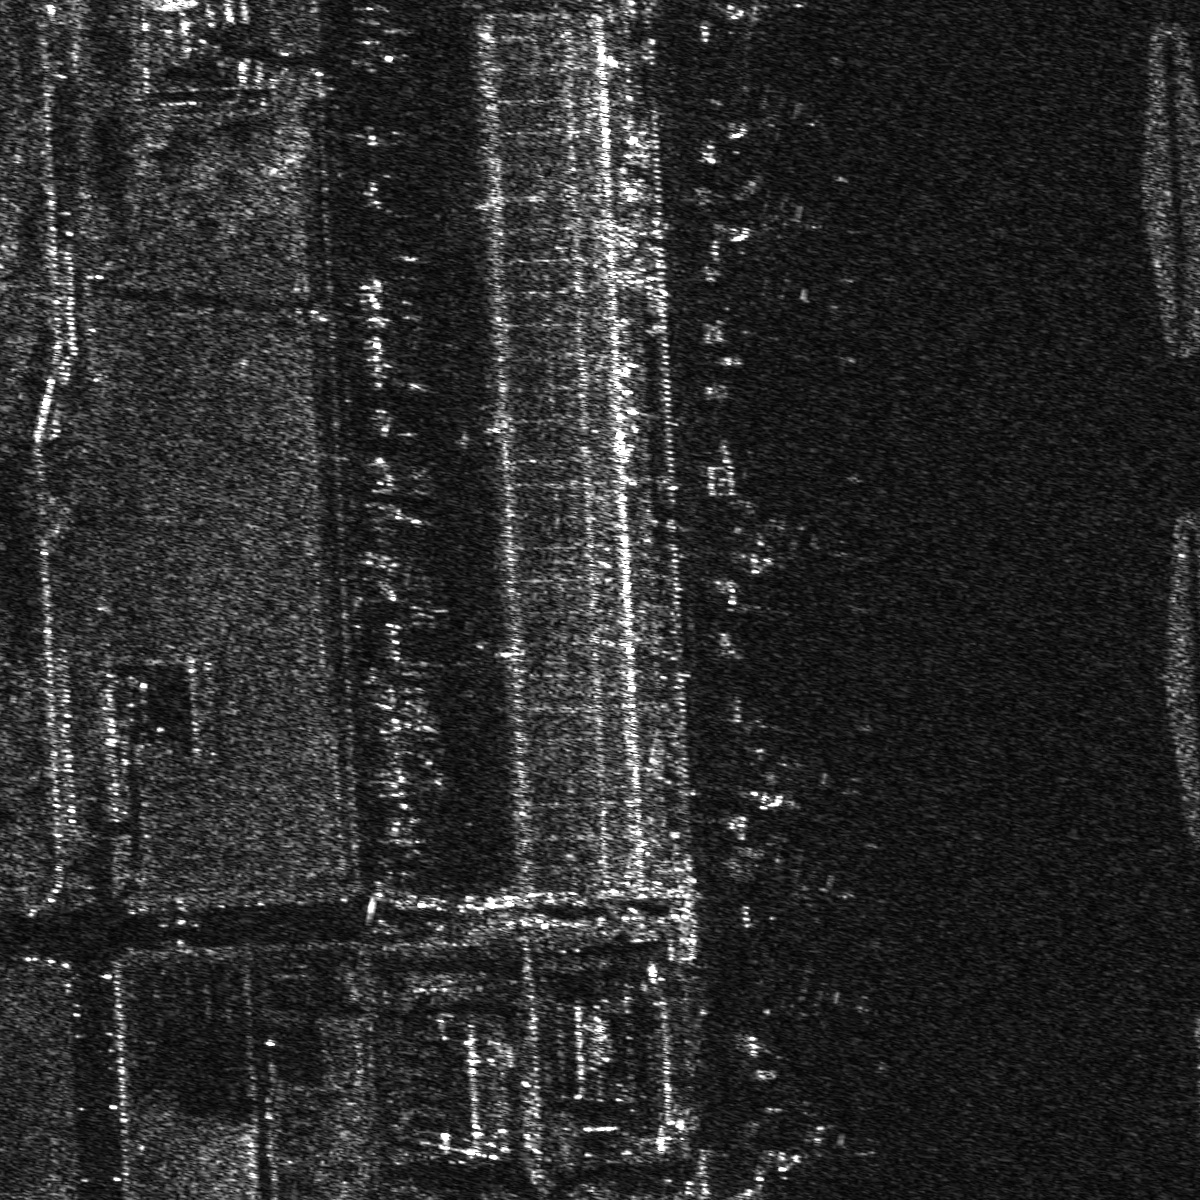A220: (758, 1120, 878, 1192)
A320/321: (752, 957, 879, 1060), (707, 193, 829, 265), (722, 86, 823, 149)
other: (773, 865, 860, 931)
